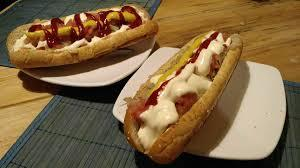Completos: (124, 27, 253, 167), (6, 0, 155, 77)
